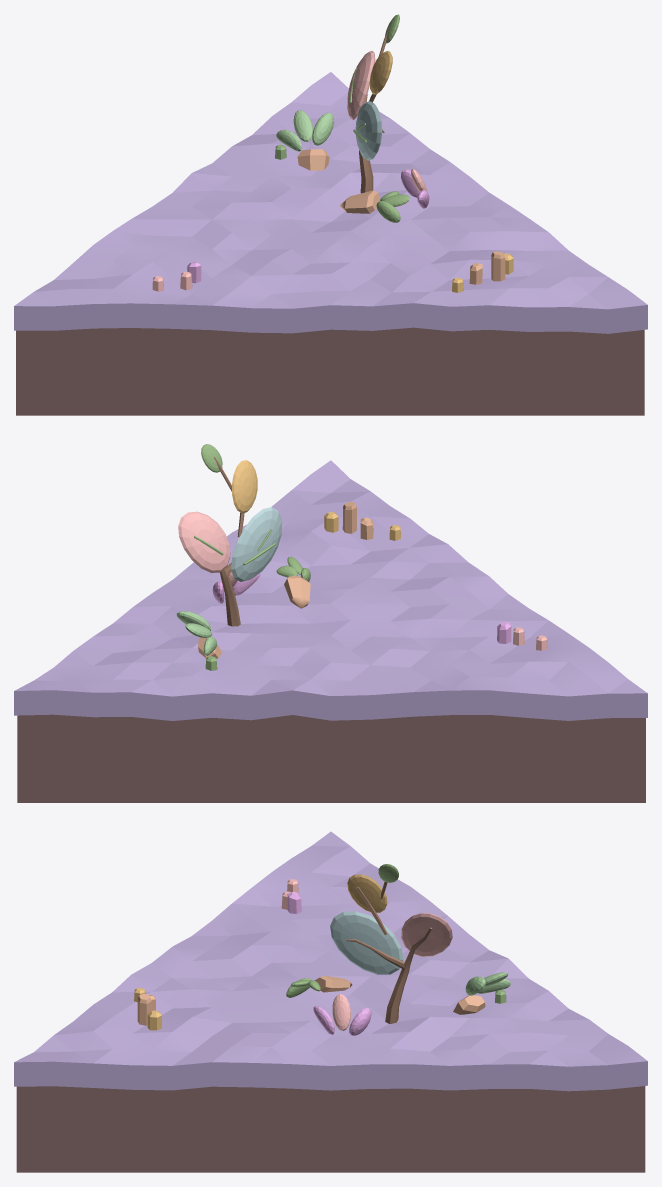
Rendered from TILE_06_02_Candy.fbx.
3 views of the same model, one above another, from view 1: azimuth 30°, elevation 25°; view 2: azimuth 150°, elevation 25°; view 3: azimuth 270°, elevation 25° (orthographic).
Visible parts, largest first — view 1: TILESURFACE13, TILE17, pSphere16 3, pSphere14 3, pCylinder34, pSphere15 3, pCylinder34 1; view 2: TILESURFACE13, TILE17, pSphere16 3, pSphere14 3, pSphere15 3, pCylinder28, pCylinder34; view 3: TILESURFACE13, TILE17, pSphere16 3, pSphere14 3, pCylinder28, pSphere15 3, pSphere15 2.
Part boxes in pixels (x1,y1,x2,y2): TILESURFACE13: (14, 72, 647, 333); TILE17: (16, 327, 644, 415); pSphere16 3: (355, 101, 382, 160); pSphere14 3: (347, 50, 375, 119); pCylinder34: (339, 190, 380, 213); pSphere15 3: (369, 51, 392, 94); pCylinder34 1: (297, 149, 329, 170); TILESURFACE13: (14, 460, 647, 720); TILE17: (17, 714, 645, 802); pSphere16 3: (231, 507, 282, 581); pSphere14 3: (178, 511, 230, 572); pSphere15 3: (232, 460, 257, 513); pCylinder28: (220, 562, 240, 626); pCylinder34: (284, 576, 310, 608); TILESURFACE13: (14, 831, 647, 1091); TILE17: (16, 1086, 645, 1172); pSphere16 3: (330, 911, 403, 974); pSphere14 3: (401, 913, 452, 956); pCylinder28: (346, 927, 431, 1023); pSphere15 3: (347, 874, 387, 912); pSphere15 2: (332, 994, 350, 1030).
Bounding box in the file's own units: 151 × 84.83 × 175.
